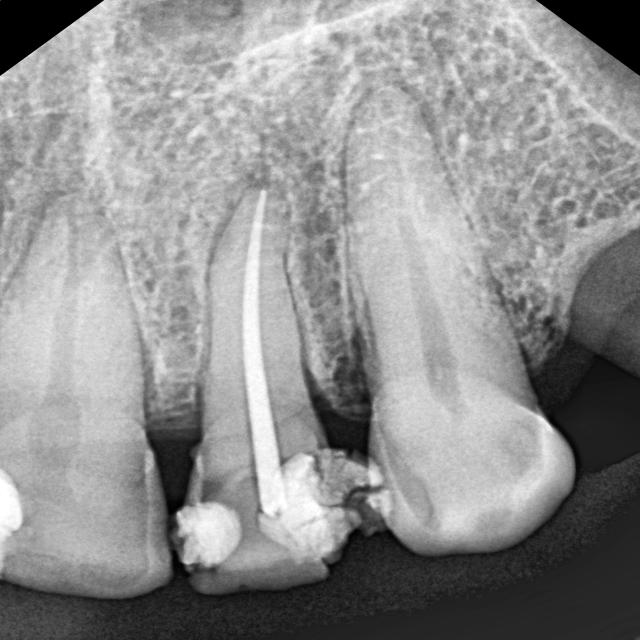RCT: (205, 183, 288, 486)
Restoration: (174, 432, 400, 593)
